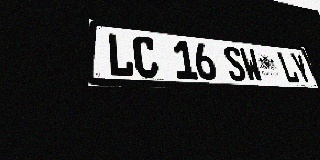1: (171, 40, 198, 80)
6: (191, 42, 218, 80)
C: (132, 35, 160, 78)
L: (107, 33, 135, 77), (276, 51, 301, 84)
S: (222, 45, 248, 82)
W: (238, 47, 264, 82)
Y: (289, 53, 314, 84)
